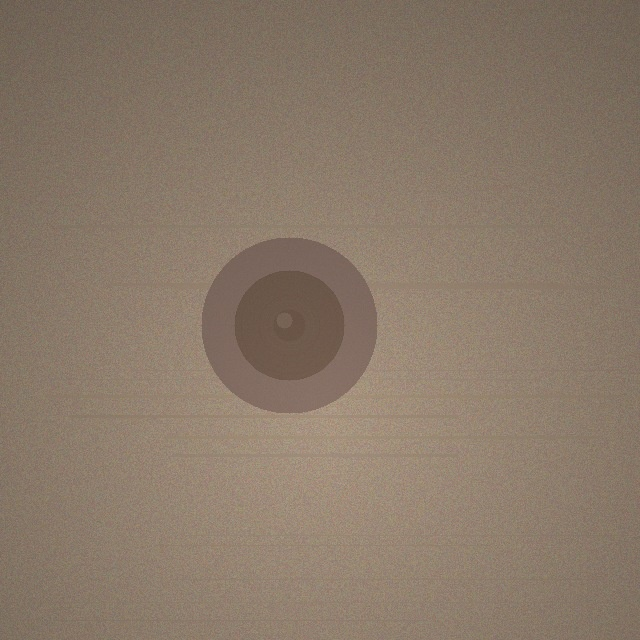good: (201, 237, 377, 413)
